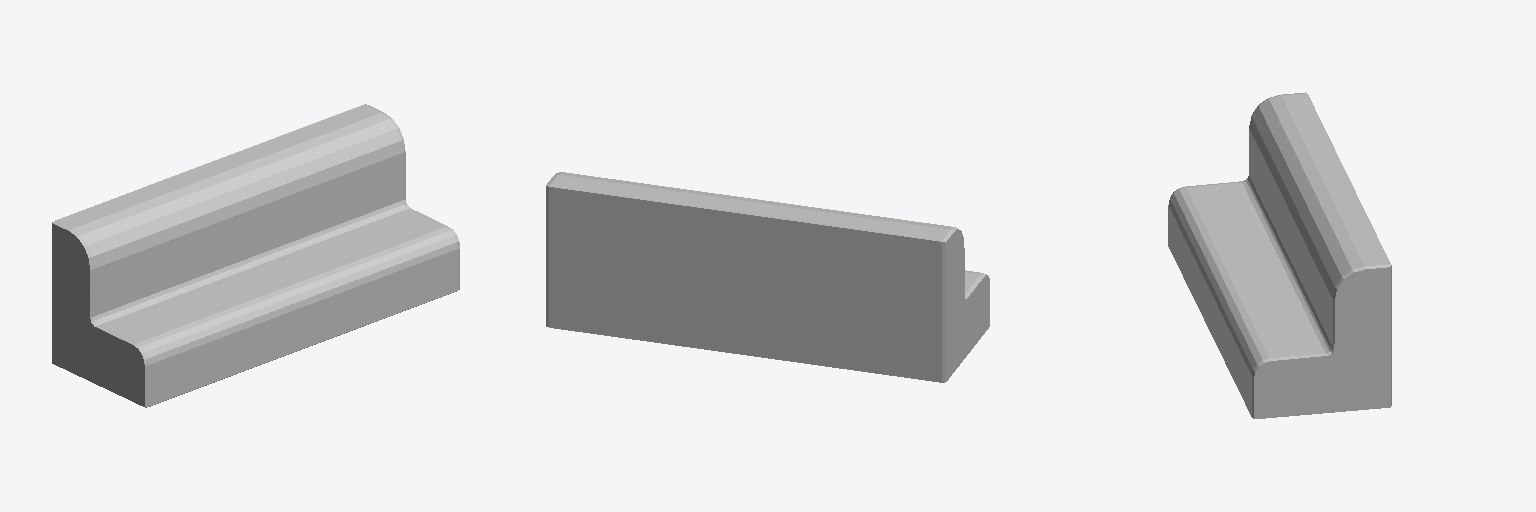
Rendered from seat_15.obj.
3 views of the same model, side by side, from view 1: azimuth 30°, elevation 25°; view 2: azimuth 150°, elevation 25°; view 3: azimuth 270°, elevation 25° (orthographic).
Parts seen in each view (by area): view 1: Cadeira1.014_Cube.014; view 2: Cadeira1.014_Cube.014; view 3: Cadeira1.014_Cube.014.
Part boxes in pixels (left/top/right/bottom): Cadeira1.014_Cube.014: left=52, top=104, right=459, bottom=407; Cadeira1.014_Cube.014: left=546, top=172, right=989, bottom=382; Cadeira1.014_Cube.014: left=1168, top=92, right=1391, bottom=418.
Size of the model in its own units: 3.38 by 1.2 by 1.71.